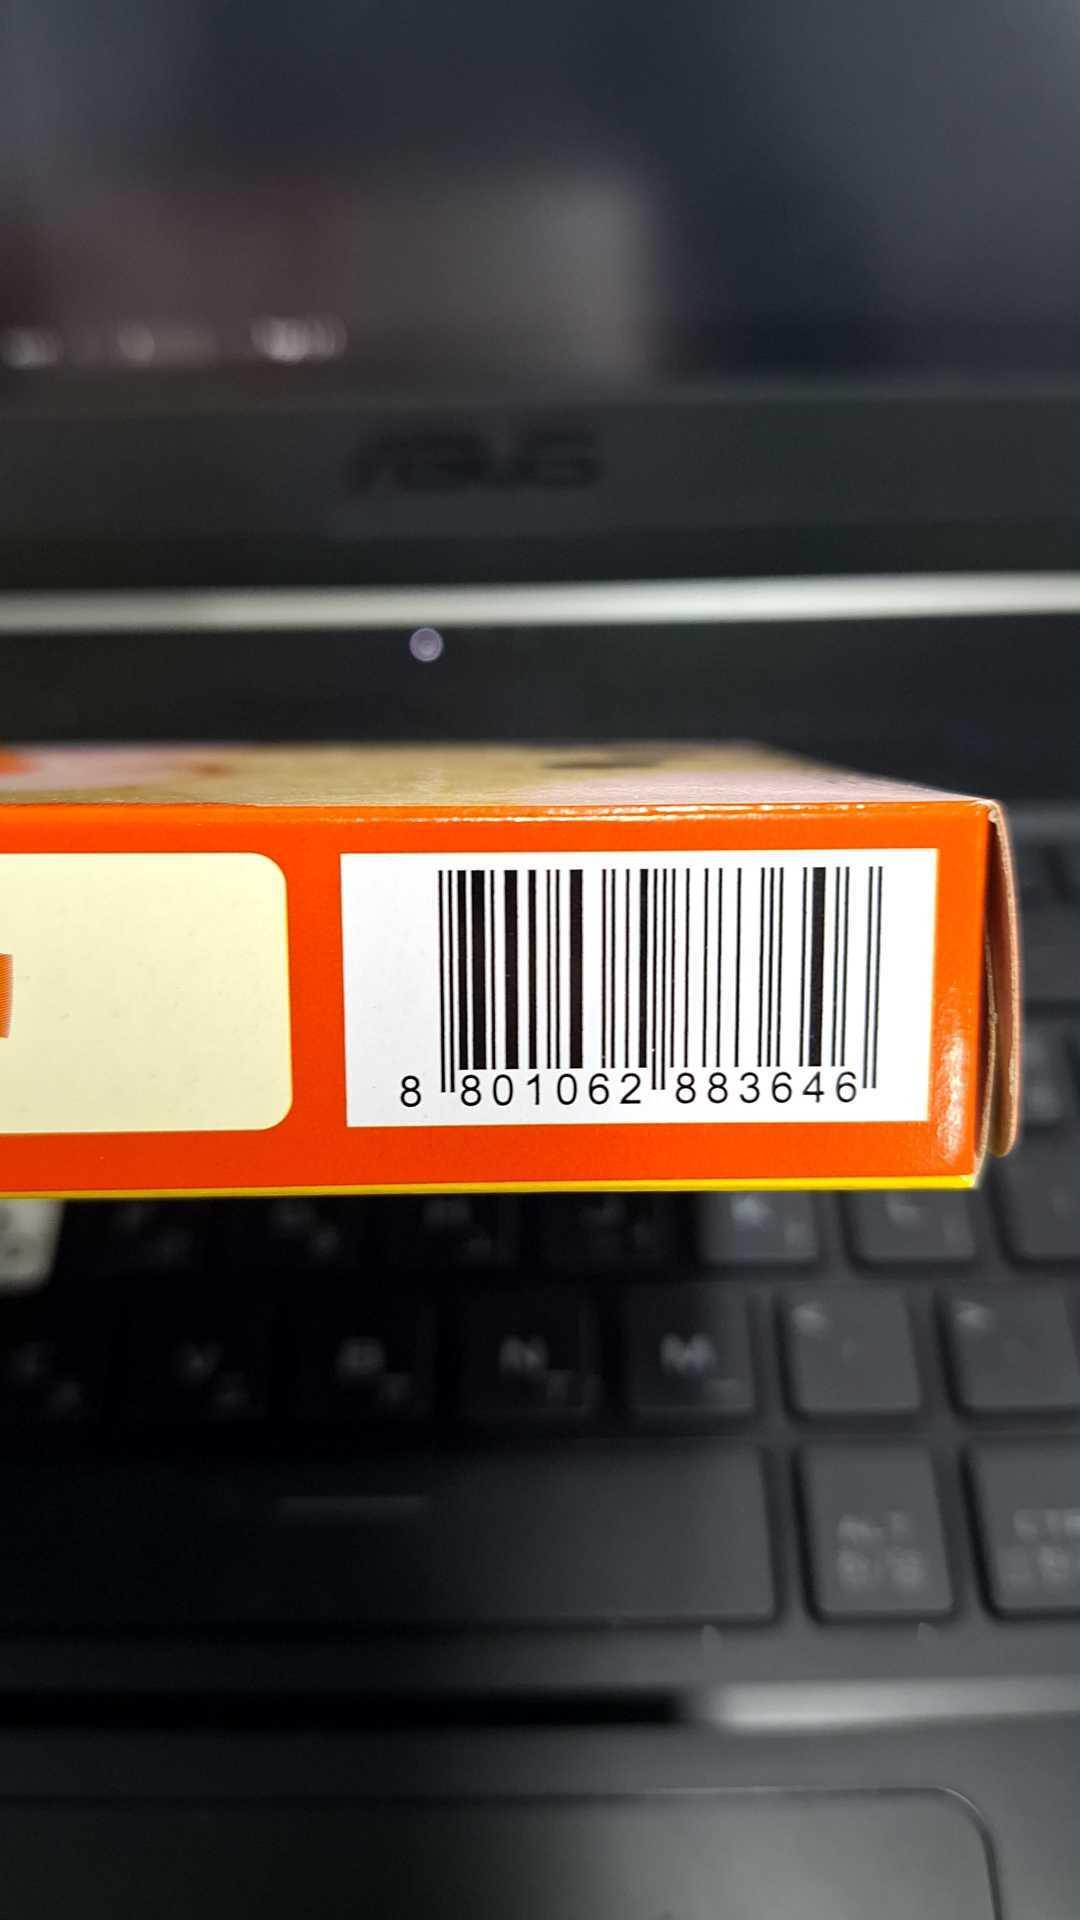crunchy-1500-2024-12-29: (348, 857, 915, 1116)
